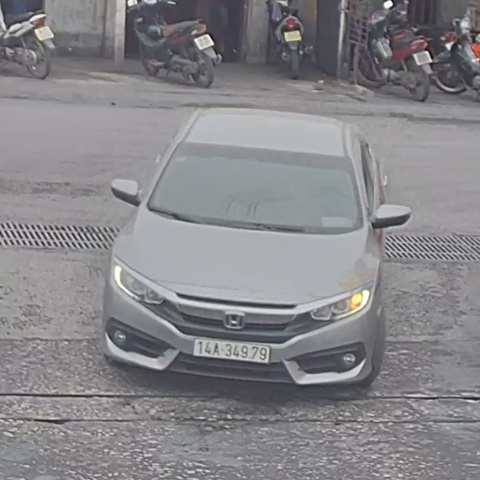vehicle plate: (190, 331, 271, 362)
